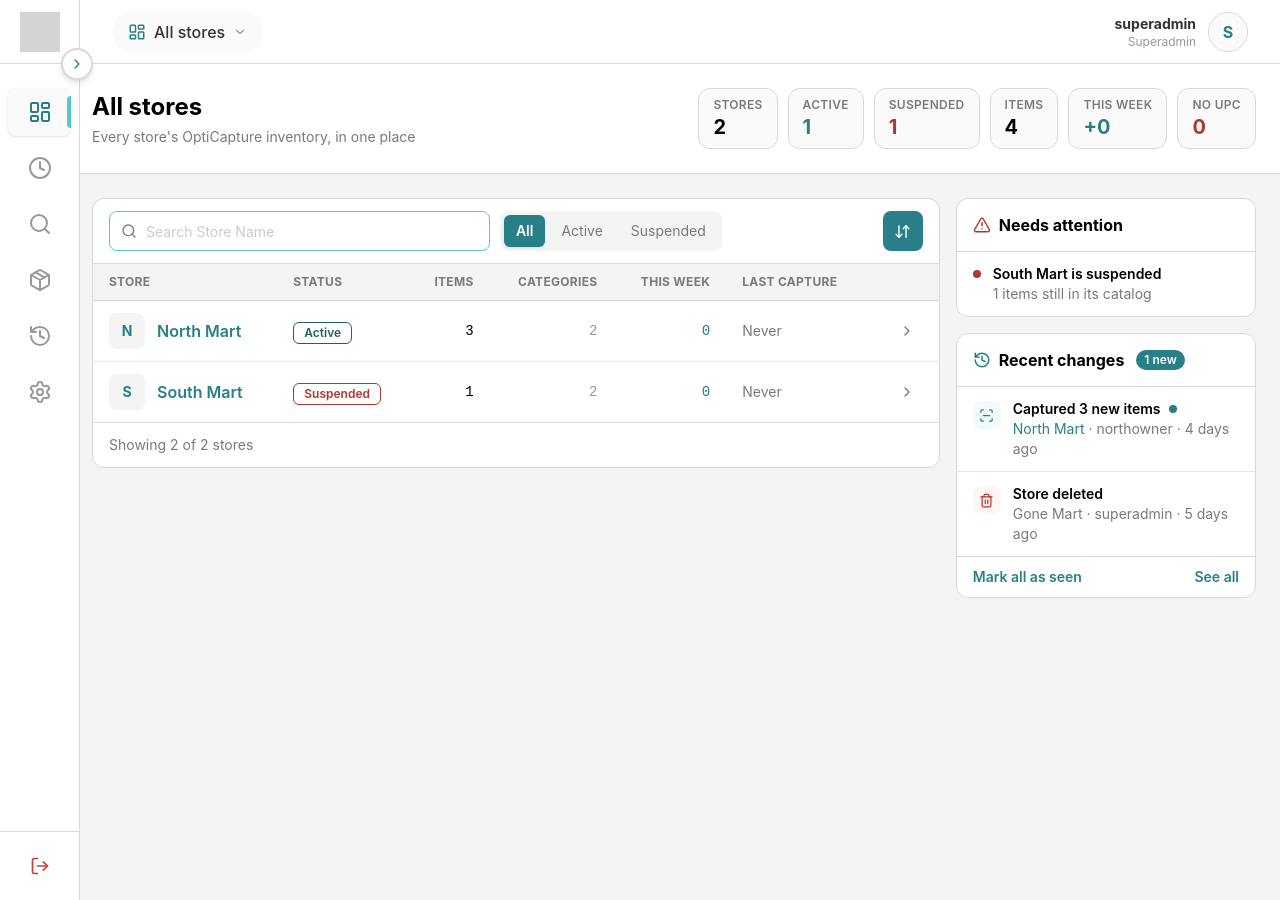
AdminDashboard recent changes card › counts the new changes, clears them on request and links to the full log
Expected: the text "1 new" is shown, 1136,350 -> 1185,370
What coordinates should you click on to do the following:
click the button "Mark all as seen"
I would click on:
 (1027, 577)
Its box is 973,567 -> 1082,587.
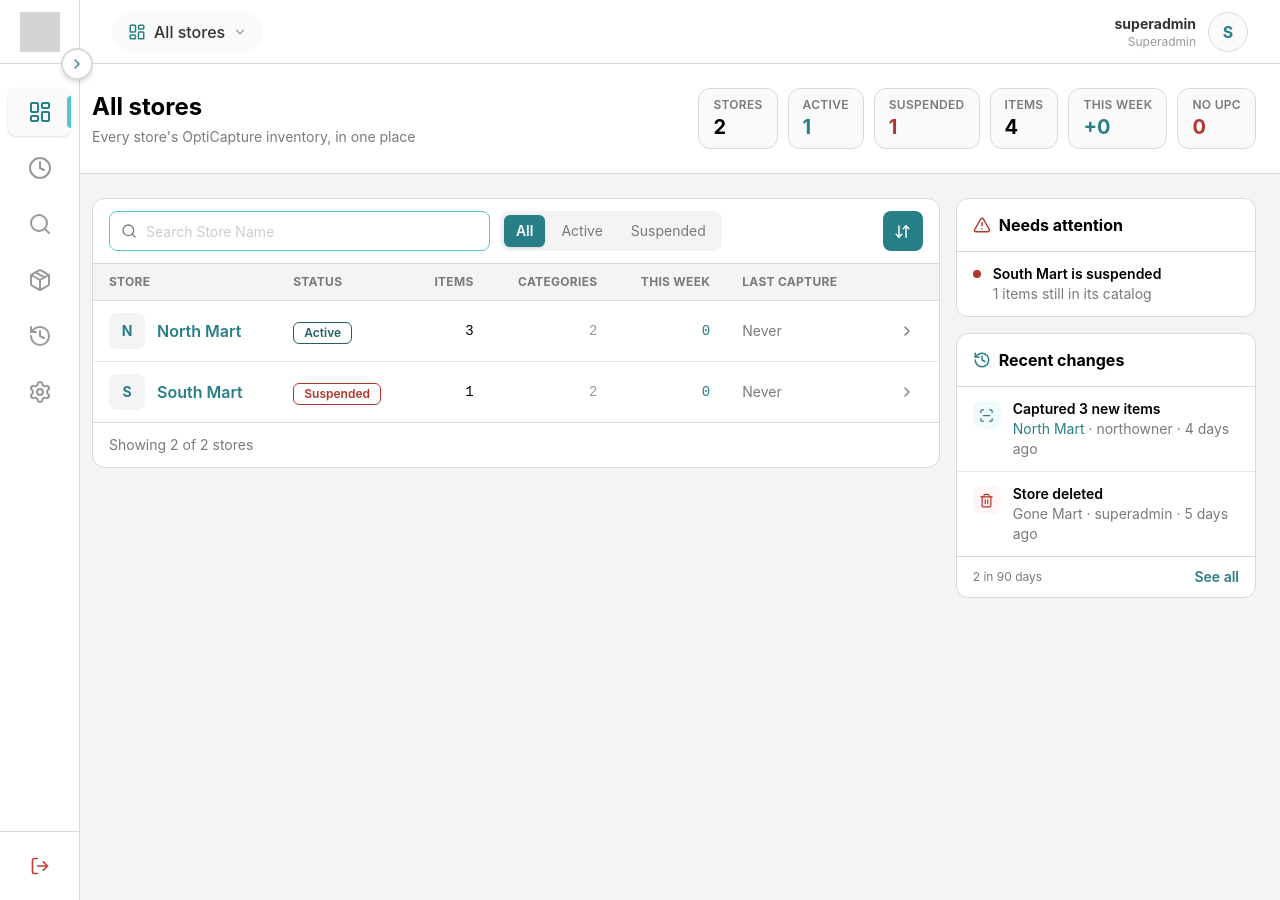
Expected: the text "1 new" is gone
Expected: the button "Mark all as seen" is gone
